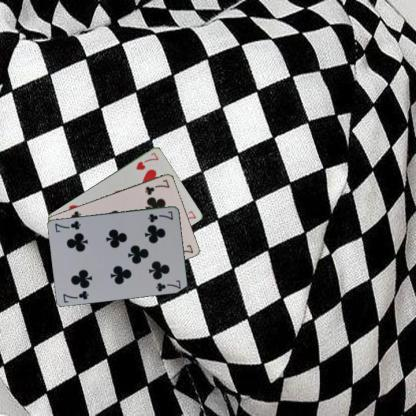7c: (142, 176, 171, 196), (61, 288, 90, 304), (146, 209, 174, 223)
7h: (134, 150, 160, 171)
